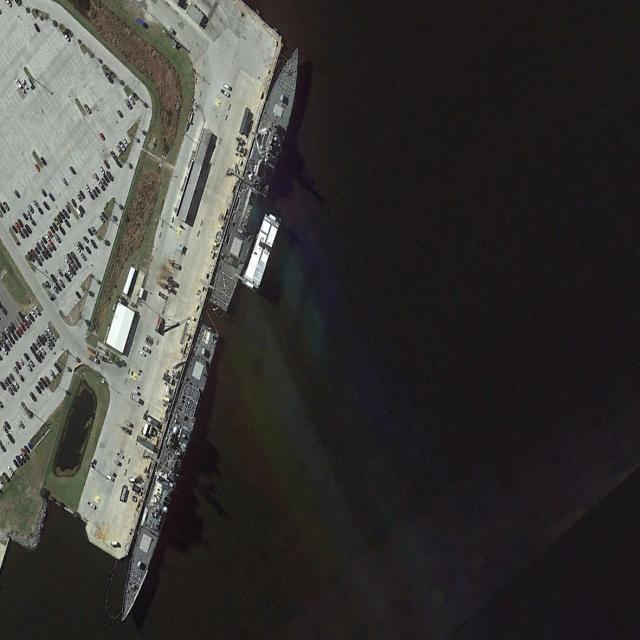Cruiser: (110, 320, 221, 628)
Destroyer: (206, 37, 309, 315)
